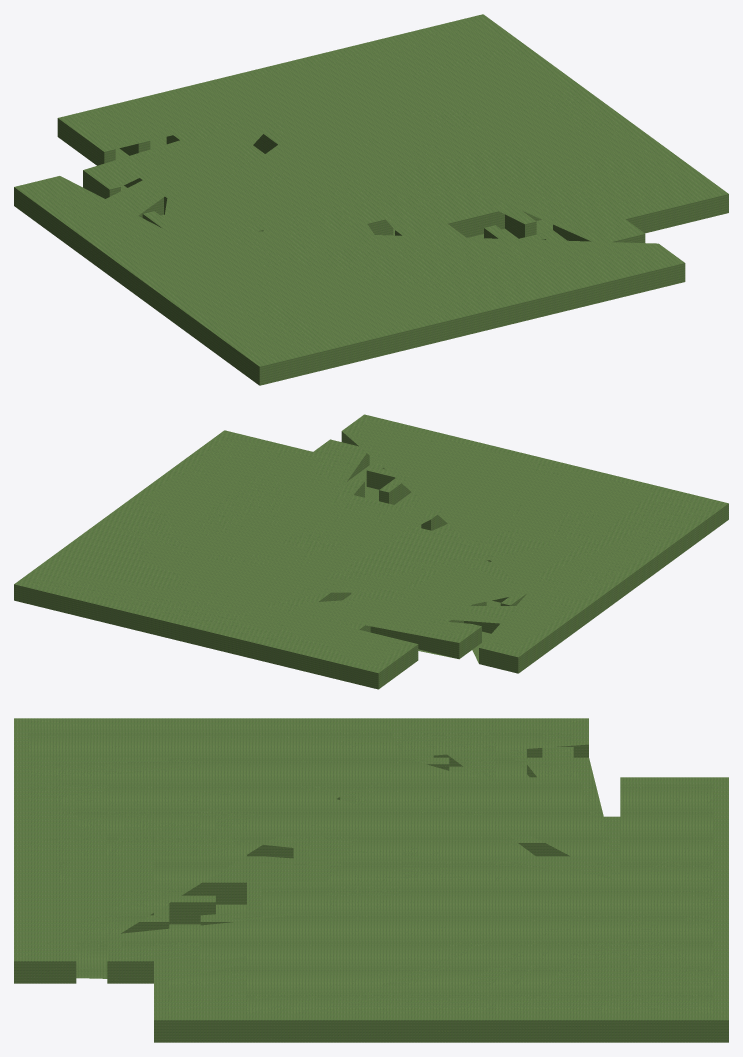
The model's file is maze1.obj.
The picture shows the model from 3 angles, top to bottom: view 1: azimuth 30°, elevation 25°; view 2: azimuth 150°, elevation 25°; view 3: azimuth 270°, elevation 25°; orthographic projection. The views are drawn at different scales.
Parts seen in each view (by area): view 1: Mesh1 Model, Mesh3 Model, Mesh2 Model; view 2: Mesh1 Model, Mesh3 Model, Mesh2 Model; view 3: Mesh1 Model, Mesh3 Model, Mesh2 Model.
Boxes of the visible parts, x1,y1,x2,y2 form: Mesh1 Model: (57,14,728,273); Mesh3 Model: (14,100,685,385); Mesh2 Model: (149,225,575,297); Mesh1 Model: (14,430,554,689); Mesh3 Model: (193,414,728,673); Mesh2 Model: (366,454,600,587); Mesh1 Model: (107,738,728,1042); Mesh3 Model: (14,718,588,983); Mesh2 Model: (60,738,355,933).
Size of the model in its own units: 5508 by 189 by 5508.
